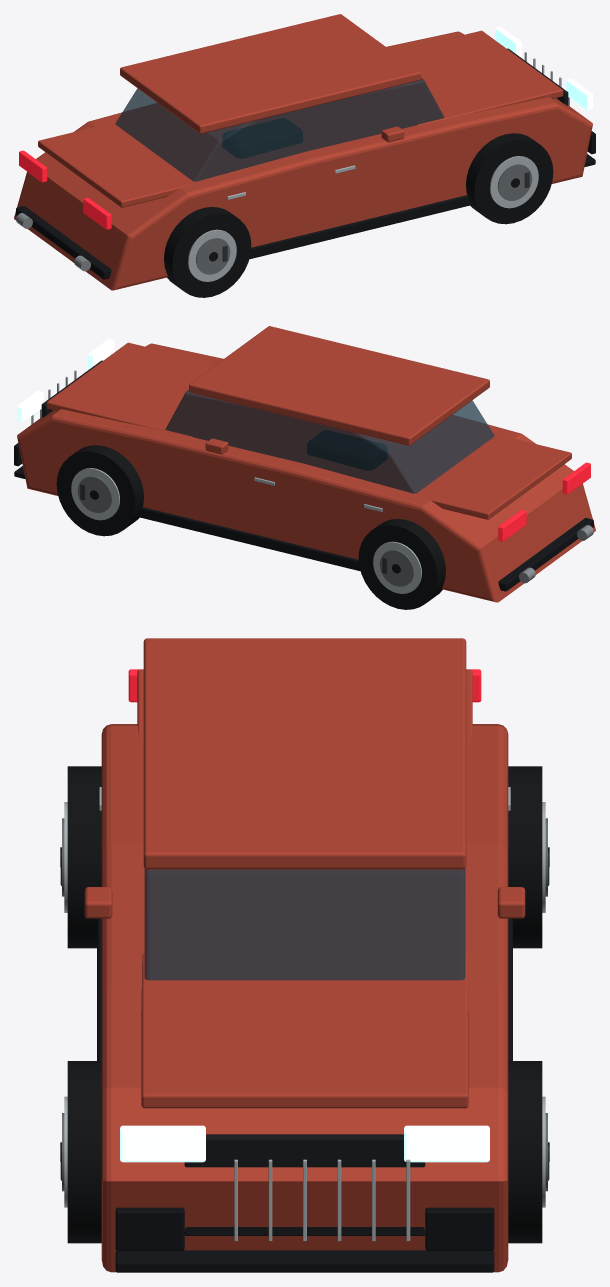
File: lambo_urus_performante.glb
3 views of the same model, one above another, from view 1: azimuth 30°, elevation 25°; view 2: azimuth 150°, elevation 25°; view 3: azimuth 270°, elevation 25° (orthographic). The views are drawn at different scales.
Parts seen in each view (by area): view 1: sculpted_body, roof, glasshouse, hood_center, rear_deck, rear_right_wheel_tire, front_right_wheel_tire, side_skirt_1, seat_1, rear_diffuser, front_right_wheel_rim, rear_right_wheel_rim (+6 smaller); view 2: sculpted_body, roof, glasshouse, hood_center, rear_deck, rear_left_wheel_tire, front_left_wheel_tire, side_skirt_-1, seat_-1, rear_diffuser, front_left_wheel_rim, rear_left_wheel_rim (+6 smaller); view 3: sculpted_body, roof, hood_center, glasshouse, front_grille, front_splitter, front_left_wheel_tire, front_right_wheel_tire, rear_left_wheel_tire, rear_right_wheel_tire, headlight_right, headlight_left (+5 smaller).
Part boxes in pixels (bbox=[...]): sculpted_body: bbox=[14, 31, 592, 290]; roof: bbox=[120, 14, 420, 133]; glasshouse: bbox=[115, 77, 444, 181]; hood_center: bbox=[373, 30, 563, 125]; rear_deck: bbox=[38, 123, 194, 207]; rear_right_wheel_tire: bbox=[164, 207, 251, 297]; front_right_wheel_tire: bbox=[466, 133, 553, 224]; side_skirt_1: bbox=[249, 195, 471, 259]; seat_1: bbox=[223, 118, 302, 157]; rear_diffuser: bbox=[16, 206, 111, 279]; front_right_wheel_rim: bbox=[490, 156, 538, 208]; rear_right_wheel_rim: bbox=[188, 229, 236, 281]; sculpted_body: bbox=[17, 343, 595, 602]; roof: bbox=[189, 326, 489, 445]; glasshouse: bbox=[165, 389, 494, 493]; hood_center: bbox=[46, 342, 236, 437]; rear_deck: bbox=[415, 435, 571, 519]; rear_left_wheel_tire: bbox=[358, 519, 445, 609]; front_left_wheel_tire: bbox=[56, 445, 143, 536]; side_skirt_-1: bbox=[138, 507, 360, 571]; seat_-1: bbox=[307, 430, 386, 469]; rear_diffuser: bbox=[498, 518, 593, 591]; front_left_wheel_rim: bbox=[71, 468, 119, 520]; rear_left_wheel_rim: bbox=[373, 541, 421, 593]; sculpted_body: bbox=[101, 724, 508, 1272]; roof: bbox=[143, 638, 466, 869]; hood_center: bbox=[141, 953, 468, 1108]; glasshouse: bbox=[144, 868, 465, 980]; front_grille: bbox=[184, 1134, 425, 1235]; front_splitter: bbox=[115, 1250, 494, 1272]; front_left_wheel_tire: bbox=[508, 1061, 542, 1243]; front_right_wheel_tire: bbox=[67, 1061, 101, 1243]; rear_left_wheel_tire: bbox=[508, 766, 542, 948]; rear_right_wheel_tire: bbox=[67, 766, 101, 948]; headlight_right: bbox=[120, 1125, 205, 1162]; headlight_left: bbox=[404, 1125, 489, 1162].
Bounding box in the file's own units: 5.49 × 1.61 × 2.31.
